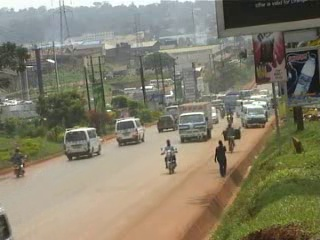Car: (151, 112, 179, 133), (210, 105, 219, 123)
Motorcycle: (160, 136, 180, 174), (7, 144, 28, 178), (224, 108, 235, 126), (218, 104, 228, 120)
